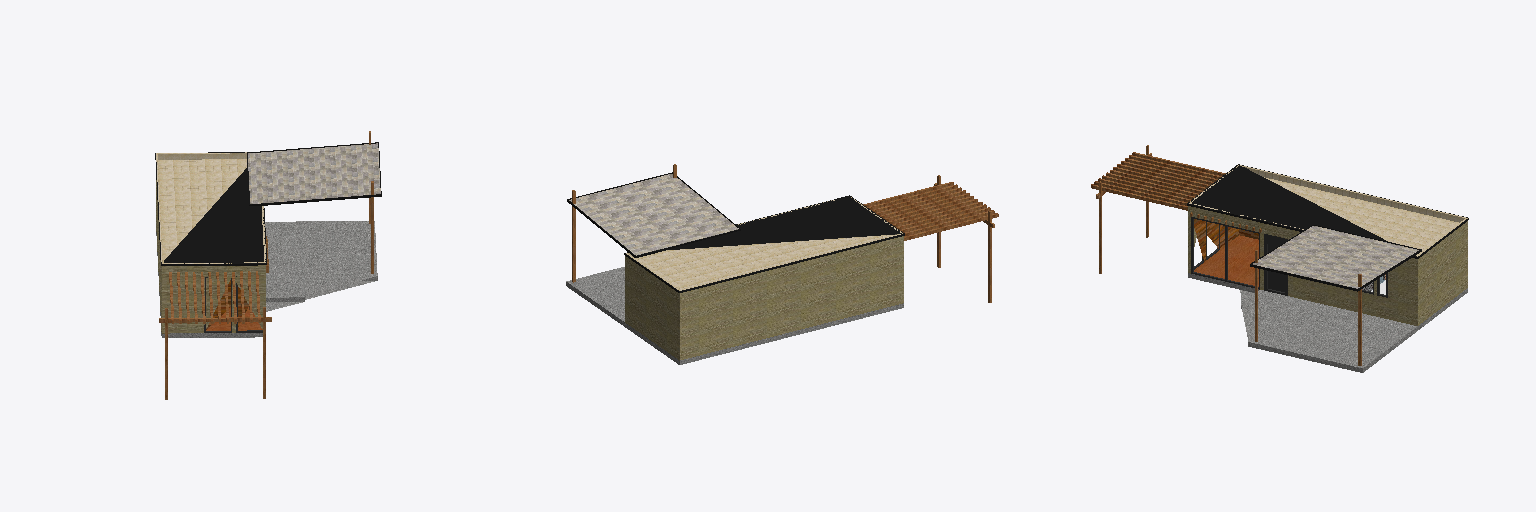
The picture shows the model from 3 angles: view 1: azimuth 30°, elevation 25°; view 2: azimuth 150°, elevation 25°; view 3: azimuth 270°, elevation 25°; orthographic projection.
Visible parts, largest first — view 1: Mesh8 Suelo Basicos Infraestructura Model, Mesh23 TechoSecundario NuevoTechito Techo_1 Basicos Infraestruct, Mesh20 TechoGeneral Techo_0 Basicos Infraestructura Model, Mesh21 BordeDelTecho Techo_0 Basicos Infraestructura Model, Mesh42 Group16 Model, Mesh24 BordeDelTechoSecundario NuevoTechito Techo_1 Basicos Infr; view 2: Mesh42 Group16 Model, Mesh23 TechoSecundario NuevoTechito Techo_1 Basicos Infraestruct, Mesh21 BordeDelTecho Techo_0 Basicos Infraestructura Model, Mesh20 TechoGeneral Techo_0 Basicos Infraestructura Model, Mesh8 Suelo Basicos Infraestructura Model, Mesh24 BordeDelTechoSecundario NuevoTechito Techo_1 Basicos Infr; view 3: Mesh8 Suelo Basicos Infraestructura Model, Mesh42 Group16 Model, Mesh20 TechoGeneral Techo_0 Basicos Infraestructura Model, Mesh23 TechoSecundario NuevoTechito Techo_1 Basicos Infraestruct, Mesh21 BordeDelTecho Techo_0 Basicos Infraestructura Model, Mesh24 BordeDelTechoSecundario NuevoTechito Techo_1 Basicos Infr, Mesh3 Group4 Group2 Group1 Ventanas Basicos Infraestructura Mode, Mesh4 Group1 Ventanas Basicos Infraestructura Model.
Boxes of the visible parts, box(x1,y1,x2,y2) form: Mesh8 Suelo Basicos Infraestructura Model: box(156, 221, 377, 337); Mesh23 TechoSecundario NuevoTechito Techo_1 Basicos Infraestruct: box(248, 143, 380, 203); Mesh20 TechoGeneral Techo_0 Basicos Infraestructura Model: box(156, 152, 265, 263); Mesh21 BordeDelTecho Techo_0 Basicos Infraestructura Model: box(155, 152, 266, 265); Mesh42 Group16 Model: box(156, 180, 265, 333); Mesh24 BordeDelTechoSecundario NuevoTechito Techo_1 Basicos Infr: box(247, 142, 381, 205); Mesh42 Group16 Model: box(625, 236, 903, 360); Mesh23 TechoSecundario NuevoTechito Techo_1 Basicos Infraestruct: box(569, 174, 738, 255); Mesh21 BordeDelTecho Techo_0 Basicos Infraestructura Model: box(624, 195, 904, 292); Mesh20 TechoGeneral Techo_0 Basicos Infraestructura Model: box(626, 197, 902, 290); Mesh8 Suelo Basicos Infraestructura Model: box(566, 267, 903, 364); Mesh24 BordeDelTechoSecundario NuevoTechito Techo_1 Basicos Infr: box(567, 172, 740, 257); Mesh8 Suelo Basicos Infraestructura Model: box(1188, 235, 1467, 372); Mesh42 Group16 Model: box(1188, 206, 1467, 325); Mesh20 TechoGeneral Techo_0 Basicos Infraestructura Model: box(1189, 165, 1467, 256); Mesh23 TechoSecundario NuevoTechito Techo_1 Basicos Infraestruct: box(1253, 226, 1418, 288); Mesh21 BordeDelTecho Techo_0 Basicos Infraestructura Model: box(1187, 164, 1468, 258); Mesh24 BordeDelTechoSecundario NuevoTechito Techo_1 Basicos Infr: box(1250, 224, 1421, 291); Mesh3 Group4 Group2 Group1 Ventanas Basicos Infraestructura Mode: box(1191, 217, 1259, 289); Mesh4 Group1 Ventanas Basicos Infraestructura Model: box(1264, 234, 1287, 295).
Size of the model in its own units: 1428 by 480 by 1444.
Materials: 16 (13 with a texture image).